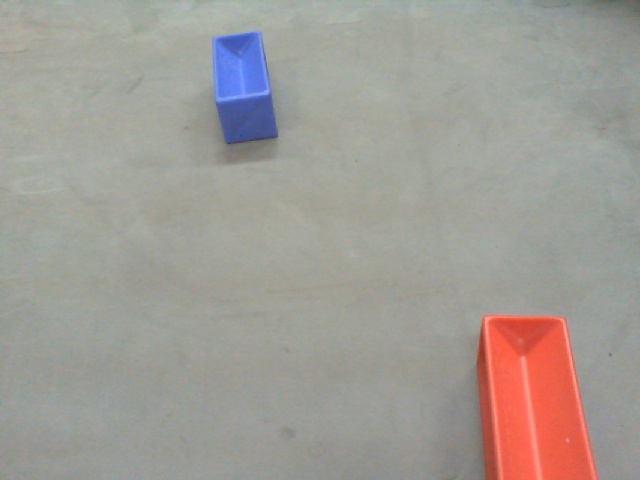BlueSample: (211, 32, 278, 144)
RedSample: (471, 311, 600, 480)
